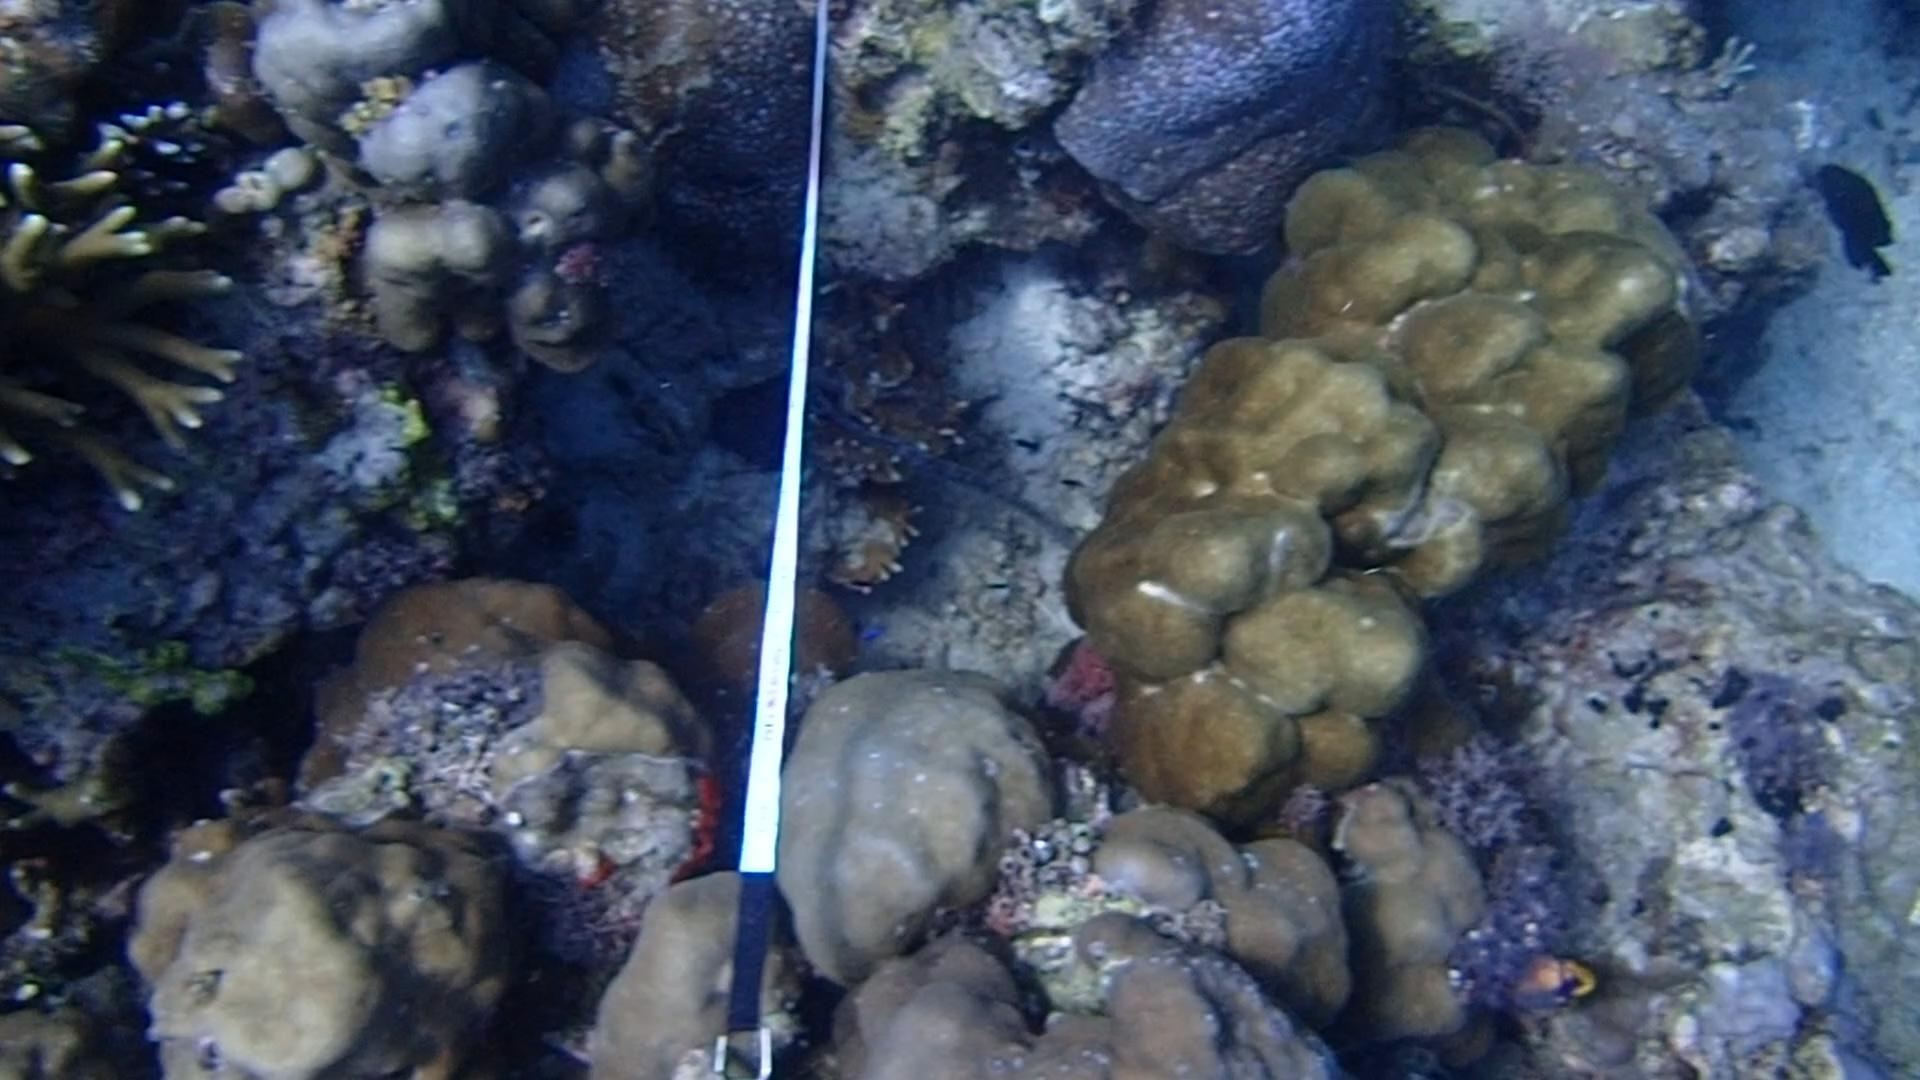Dark Fish: (1804, 153, 1904, 287)
